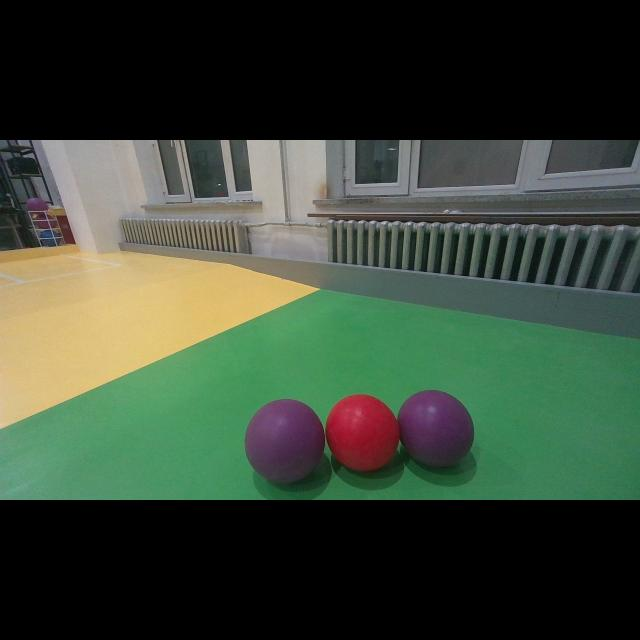P: (245, 398, 325, 484), (398, 389, 474, 466)
R: (325, 394, 399, 472)
